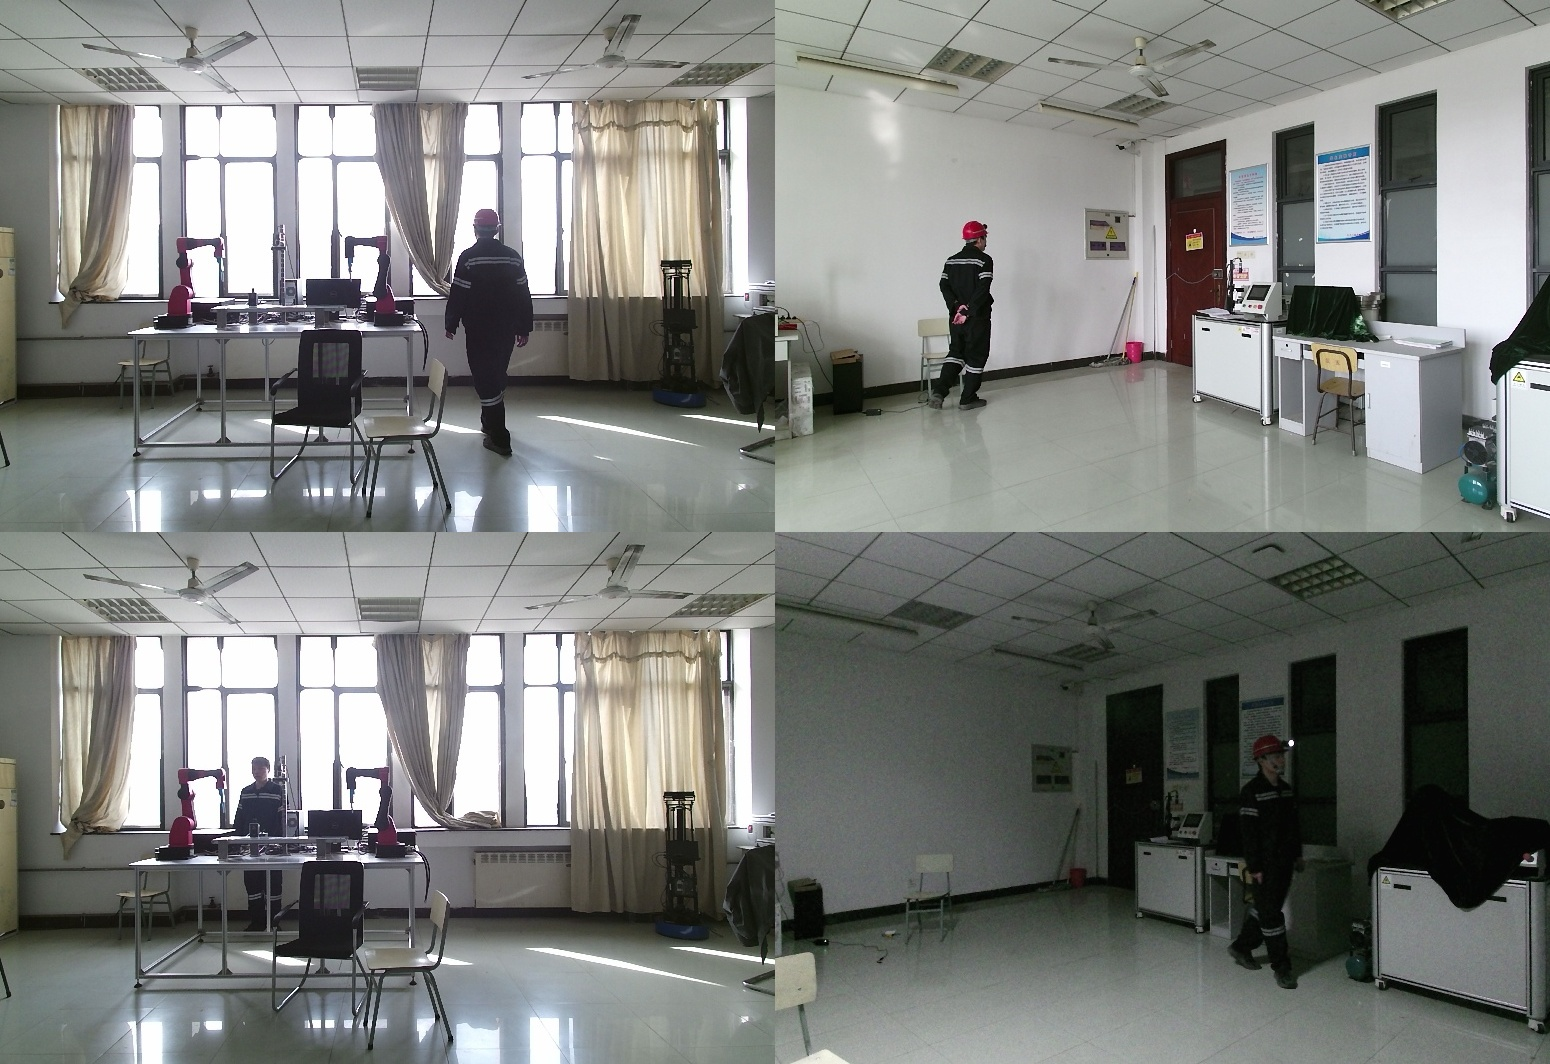person: (449, 206, 541, 457), (1229, 736, 1310, 989), (921, 220, 996, 420), (233, 758, 288, 941)
